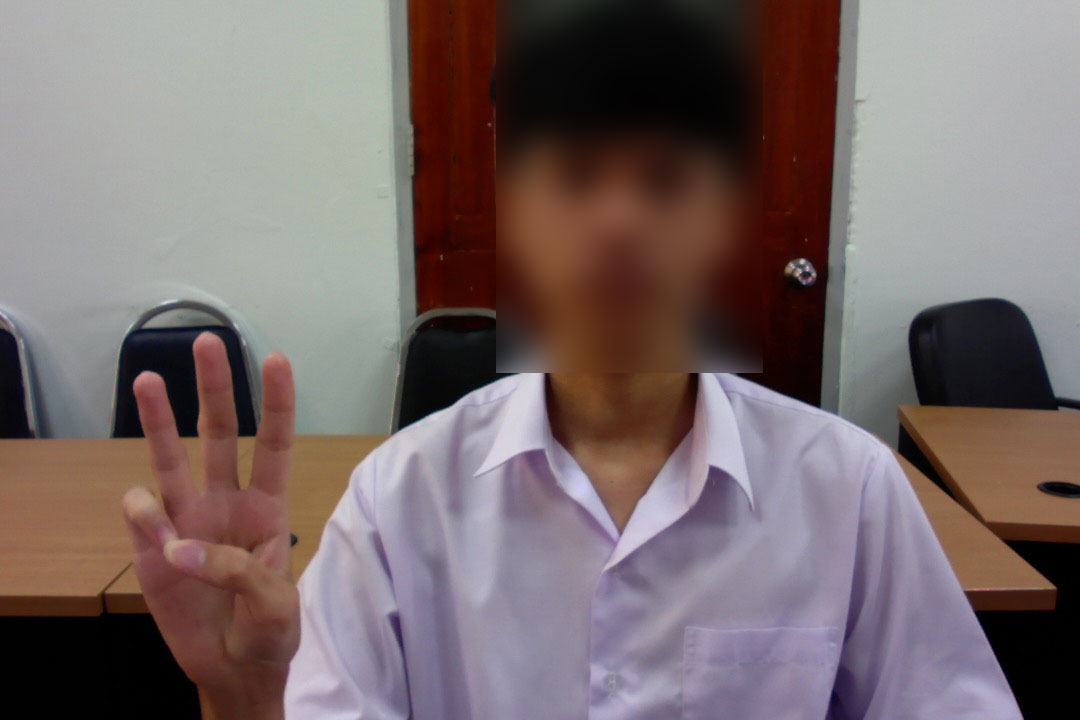wor: (111, 333, 340, 695)
